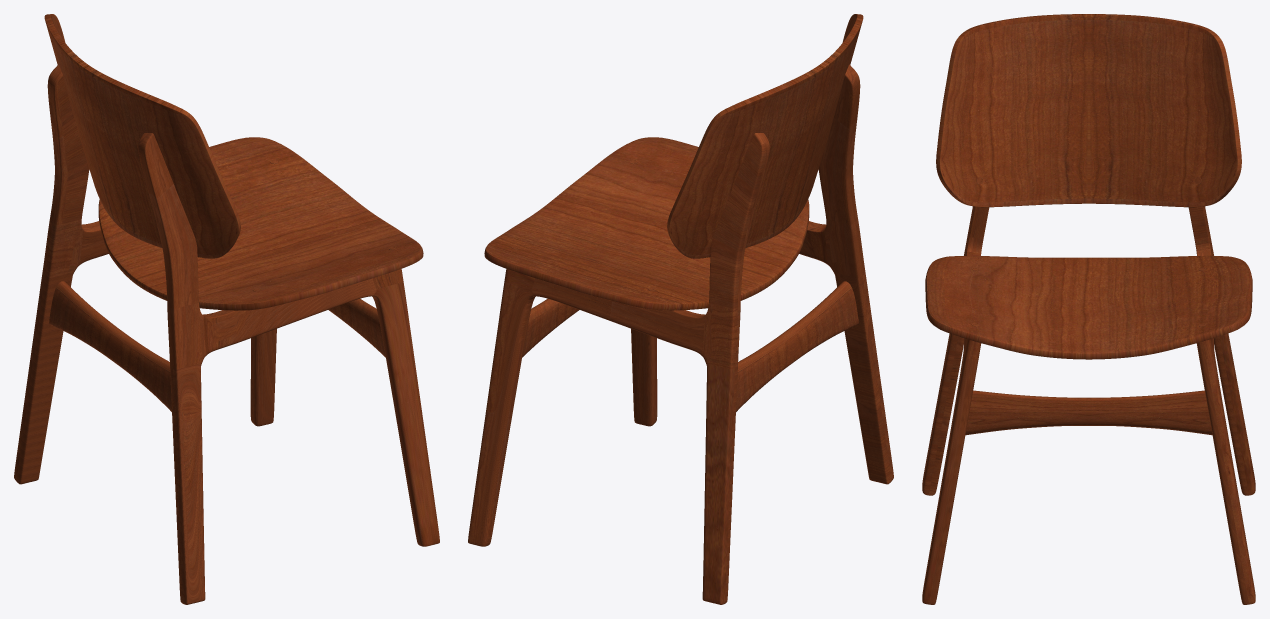
File: chair_01.fbx
3 views of the same model, side by side, from view 1: azimuth 30°, elevation 25°; view 2: azimuth 150°, elevation 25°; view 3: azimuth 270°, elevation 25° (orthographic). The views are drawn at different scales.
Parts seen in each view (by area): view 1: chair; view 2: chair; view 3: chair.
Part boxes in pixels (x1,y1,x2,y2): chair: [14, 14, 439, 604]; chair: [468, 14, 893, 604]; chair: [922, 14, 1255, 604].
Bounding box in the file's own units: 62.78 × 101 × 65.66.
